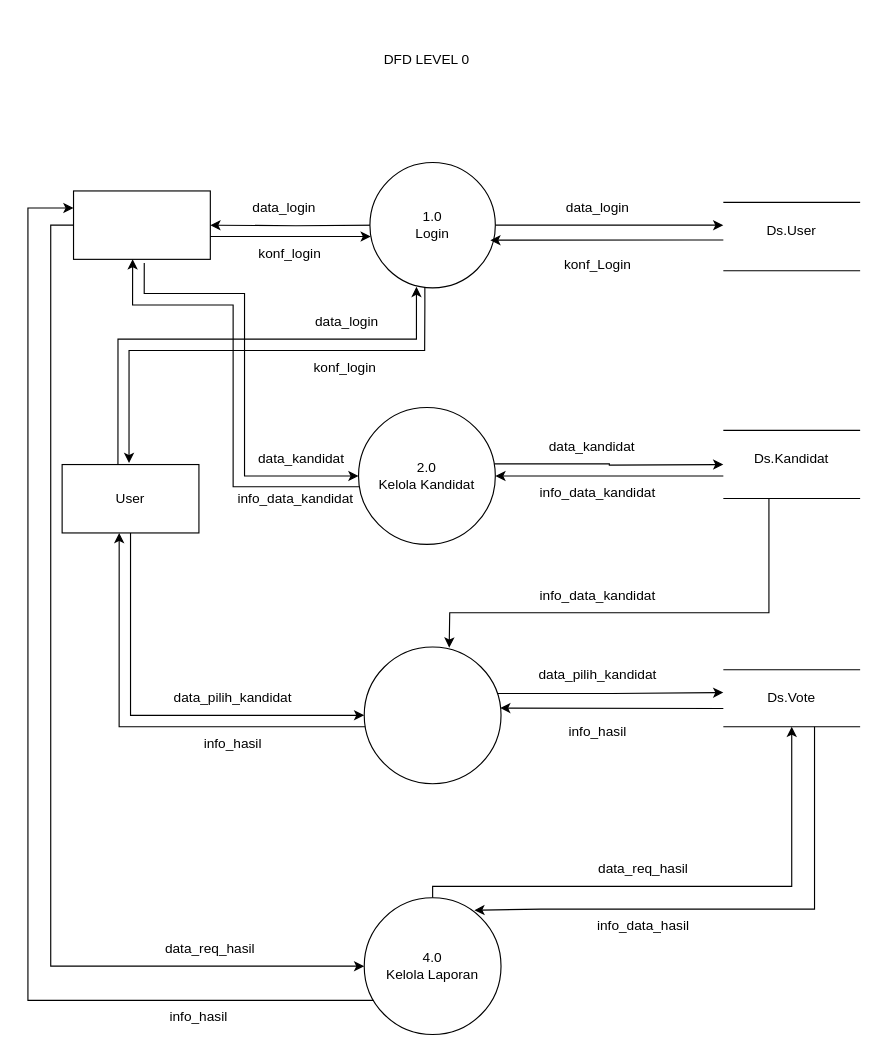
Image size: 881x1055. Some labels were removed from this diagram. Each missing label, with the centre of its shape:
"3.0 Kelola Voting" belongs at pixel 432 715.
"Admin" belongs at pixel 141 224.
